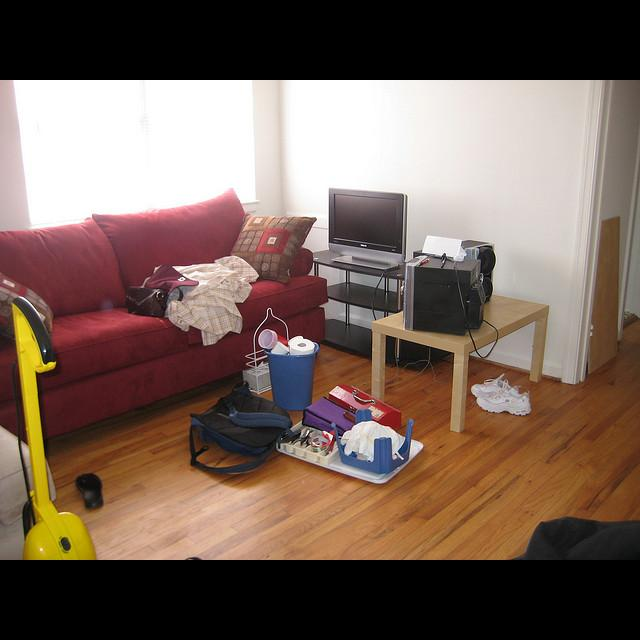Flat-Panel-TV: (329, 188, 408, 270)
